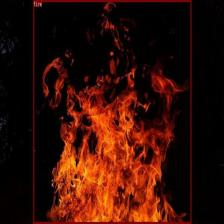fire: (33, 0, 191, 223)
